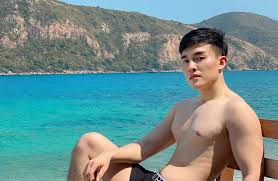people: (165, 29, 247, 181)
